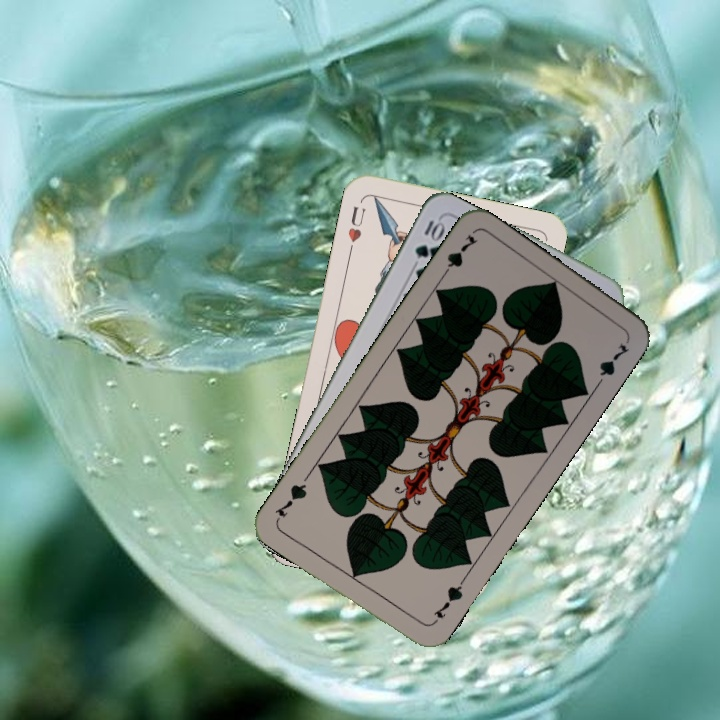G10: (410, 215, 446, 261)
G7: (436, 229, 481, 282), (428, 576, 467, 628)
HU: (343, 202, 368, 256)
